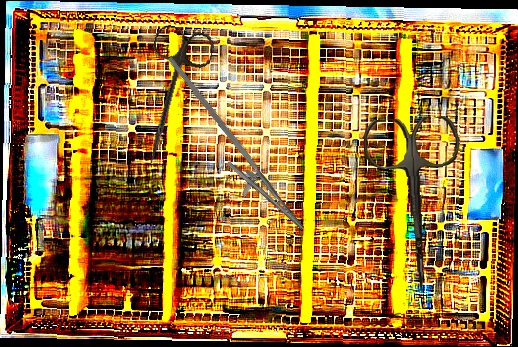Iris Scissors: (362, 115, 468, 295), (125, 22, 217, 171)
Needle Holder: (136, 55, 325, 243)
